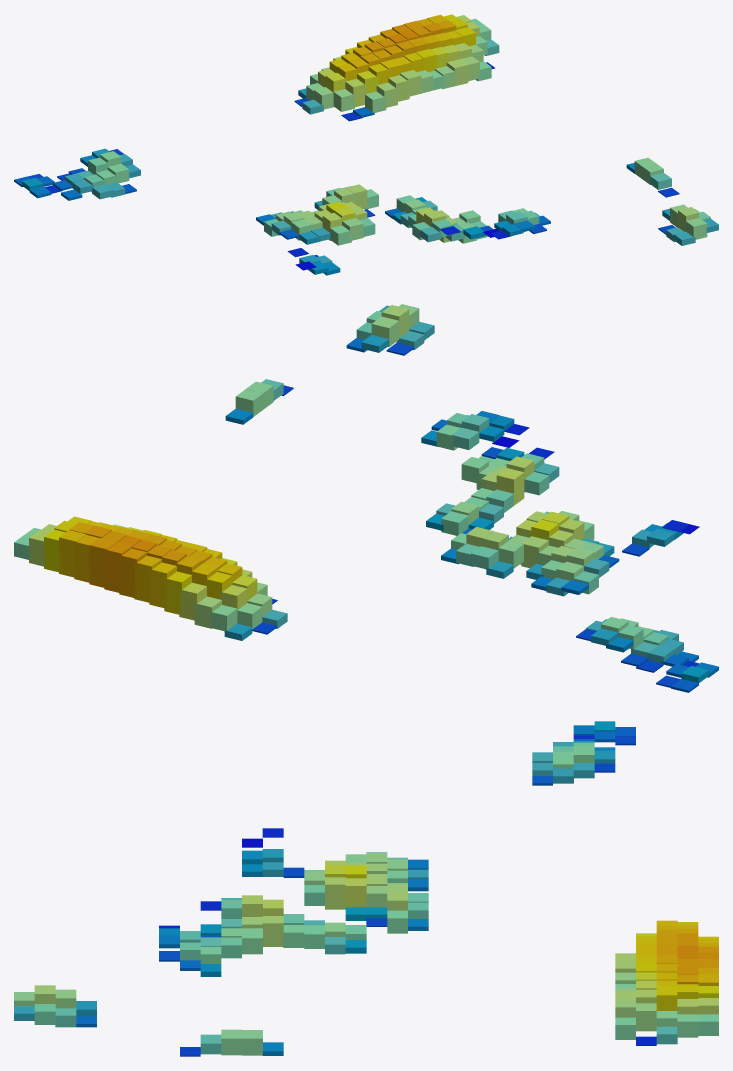
File: population.glb
The picture shows the model from 3 angles, top to bottom: view 1: azimuth 30°, elevation 25°; view 2: azimuth 150°, elevation 25°; view 3: azimuth 270°, elevation 25°; orthographic projection. The views are drawn at different scales.
Visible parts, largest first — view 1: population; view 2: population; view 3: population.
Part boxes in pixels (x1=…): population: x1=14, y1=14, x2=718, y2=275; population: x1=14, y1=304, x2=718, y2=692; population: x1=14, y1=721, x2=718, y2=1056.
Bounding box in the file's own units: 3617 × 415 × 3386.
